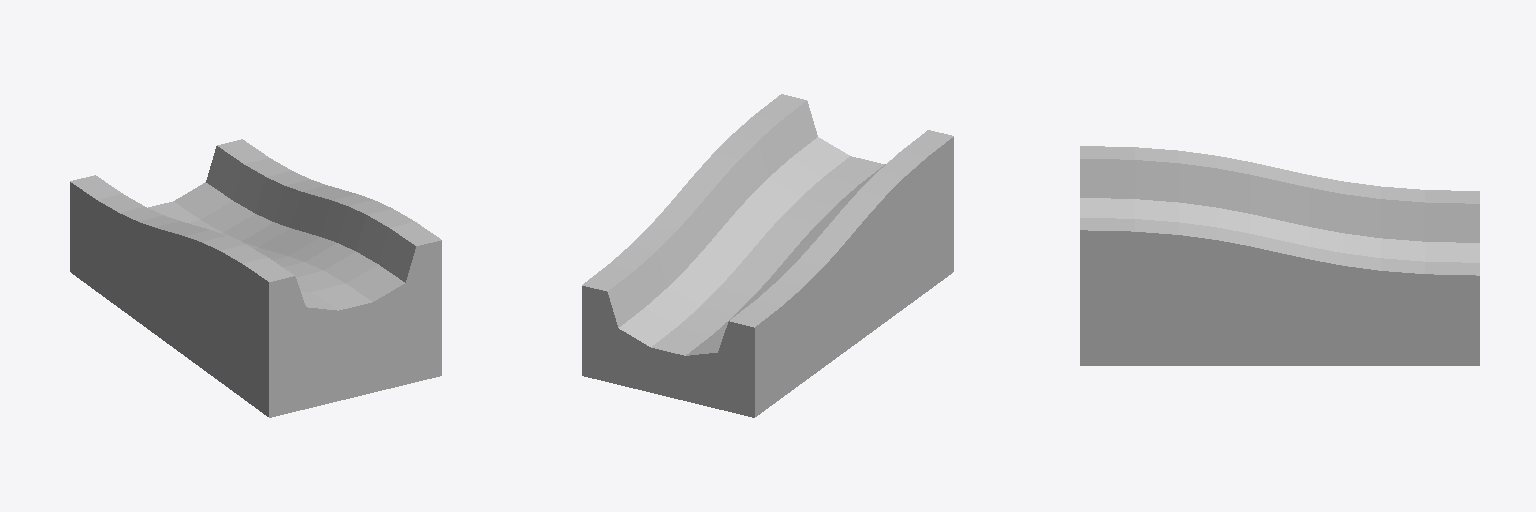
The model's file is ramp-long-solid-a.obj.
3 views of the same model, side by side, from view 1: azimuth 30°, elevation 25°; view 2: azimuth 150°, elevation 25°; view 3: azimuth 270°, elevation 25° (orthographic).
Visible parts, largest first — view 1: ramp-long-solid-a; view 2: ramp-long-solid-a; view 3: ramp-long-solid-a.
Part boxes in pixels (bbox=[...]): ramp-long-solid-a: bbox=[70, 139, 441, 417]; ramp-long-solid-a: bbox=[582, 94, 953, 417]; ramp-long-solid-a: bbox=[1080, 146, 1479, 365].
Bounding box in the file's own units: 1 × 0.75 × 2.